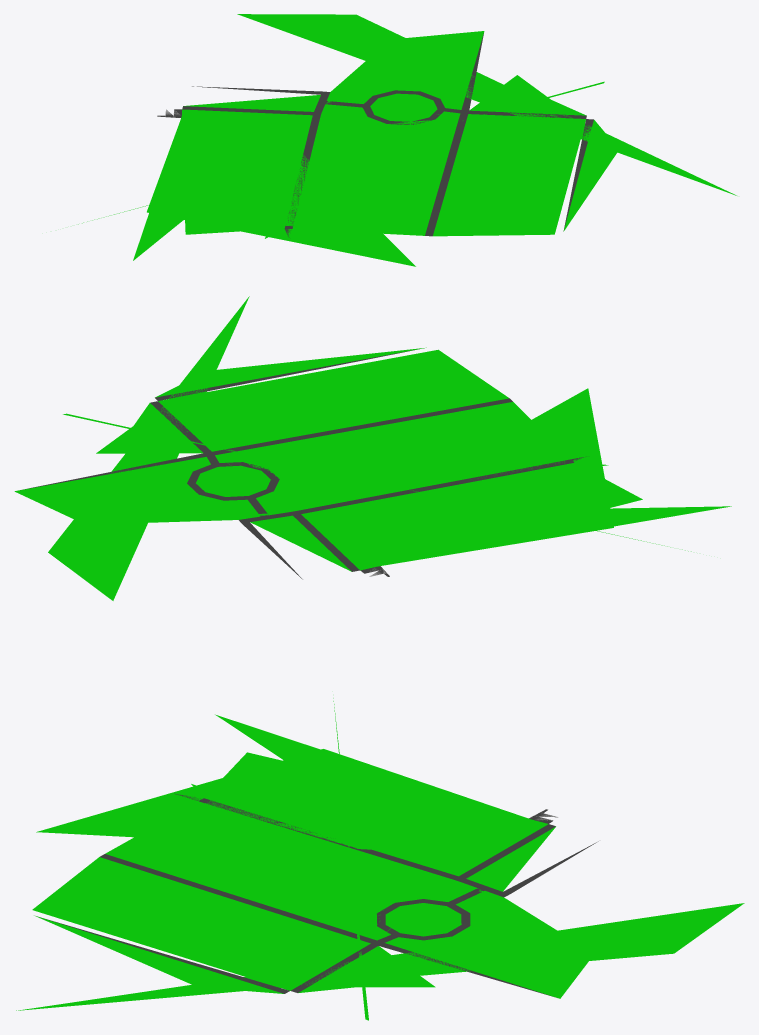
The picture shows the model from 3 angles, top to bottom: view 1: azimuth 30°, elevation 25°; view 2: azimuth 150°, elevation 25°; view 3: azimuth 270°, elevation 25°; orthographic projection. The views are drawn at different scales.
Bounding box in the file's own units: 297 × 0.001 × 276.
